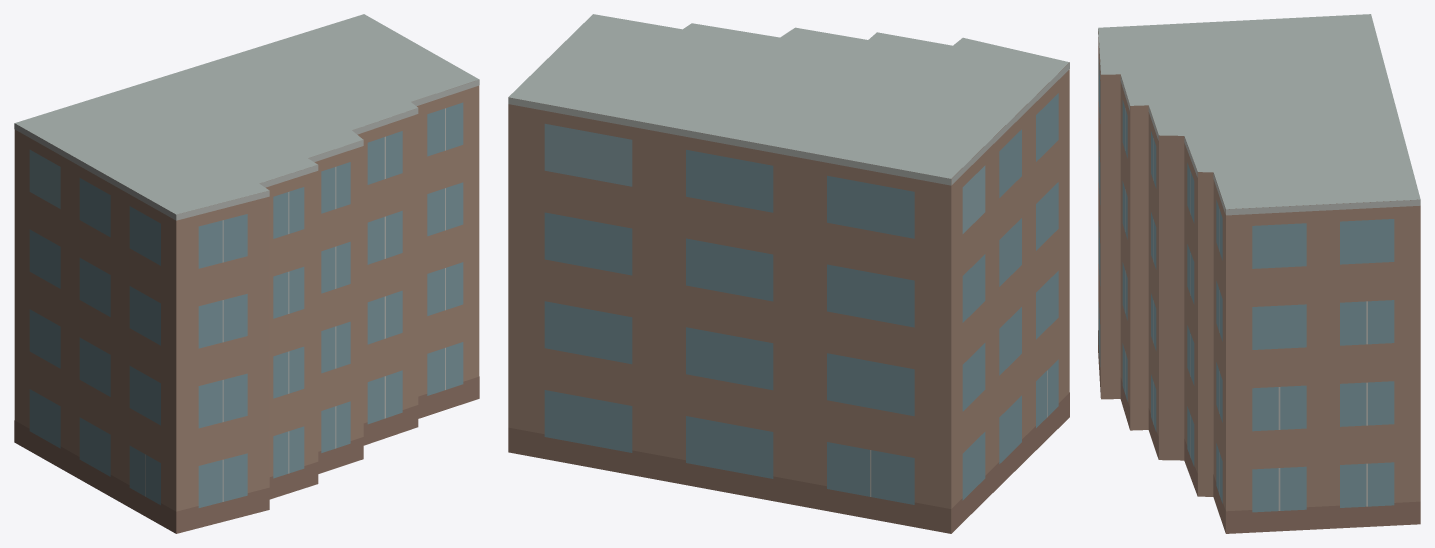
The model's file is survey-upis-32624532.glb.
3 renders of one model, left to right at view 1: azimuth 30°, elevation 25°; view 2: azimuth 150°, elevation 25°; view 3: azimuth 270°, elevation 25°, orthographic. The views are drawn at different scales.
Visible parts, largest first — view 1: survey-upis-32624532.tmp; view 2: survey-upis-32624532.tmp; view 3: survey-upis-32624532.tmp.
Part boxes in pixels (x1,y1,x2,y2): survey-upis-32624532.tmp: [14, 14, 479, 533]; survey-upis-32624532.tmp: [508, 14, 1069, 533]; survey-upis-32624532.tmp: [1098, 14, 1420, 533].
Size of the model in its own units: 16.52 by 12.8 by 11.53.
